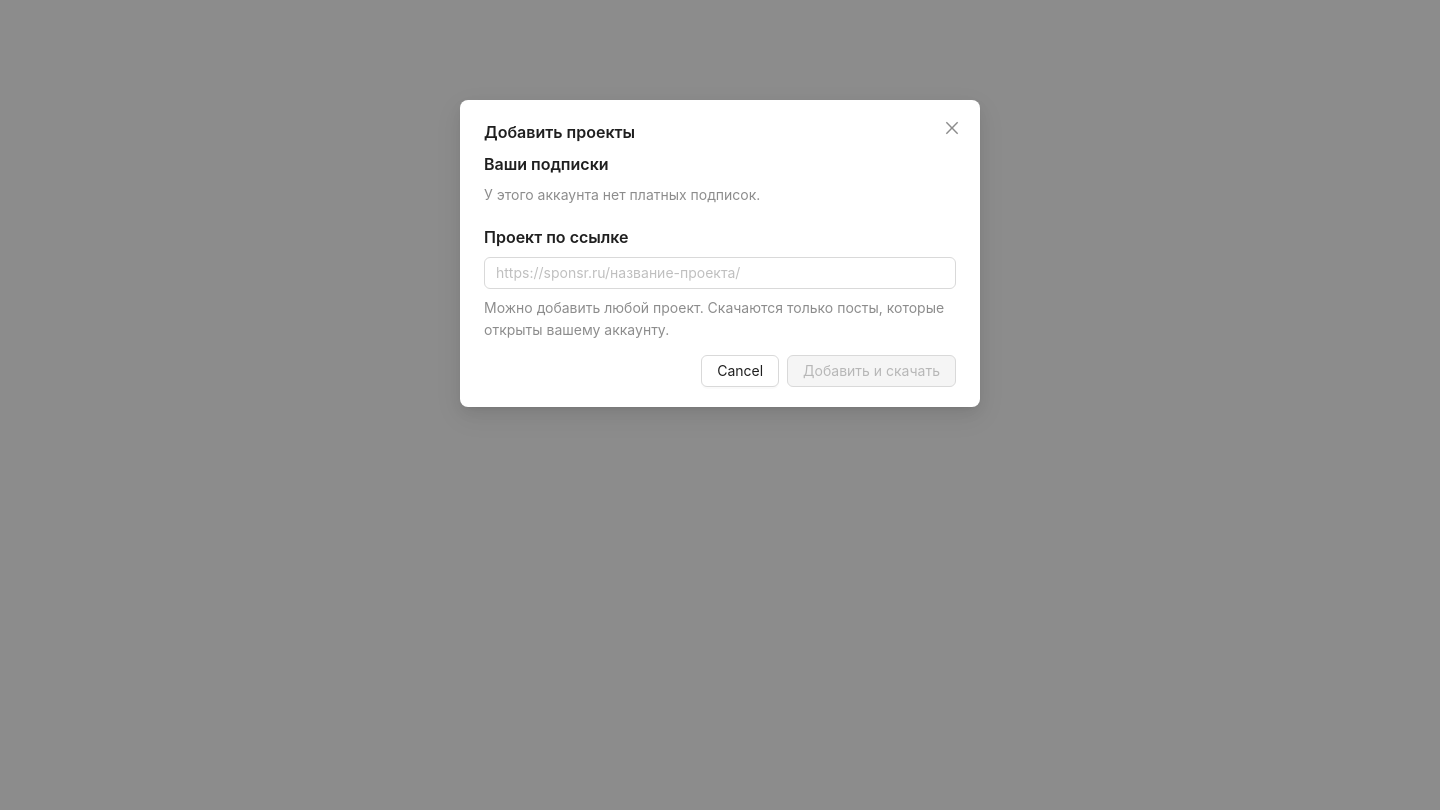
Test: AddProjectsModal › stays open and explains a refused address
In the field with placeholder "https://sponsr.ru/название-проекта/": (712, 273) top-left (496, 262), bottom-right (928, 284), type "nobody-home"
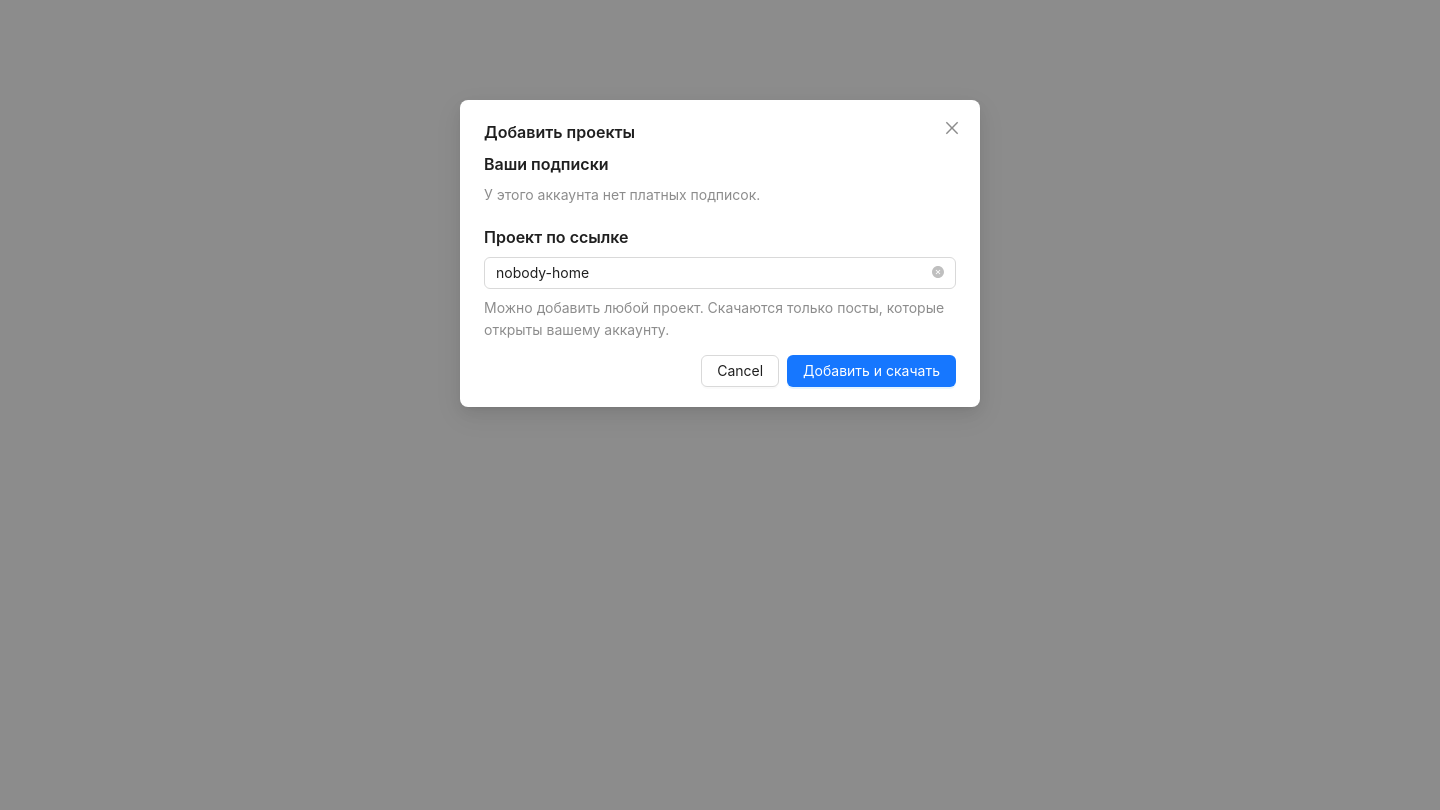
Click the button "Добавить и скачать": click(872, 371) top-left (787, 355), bottom-right (956, 387)
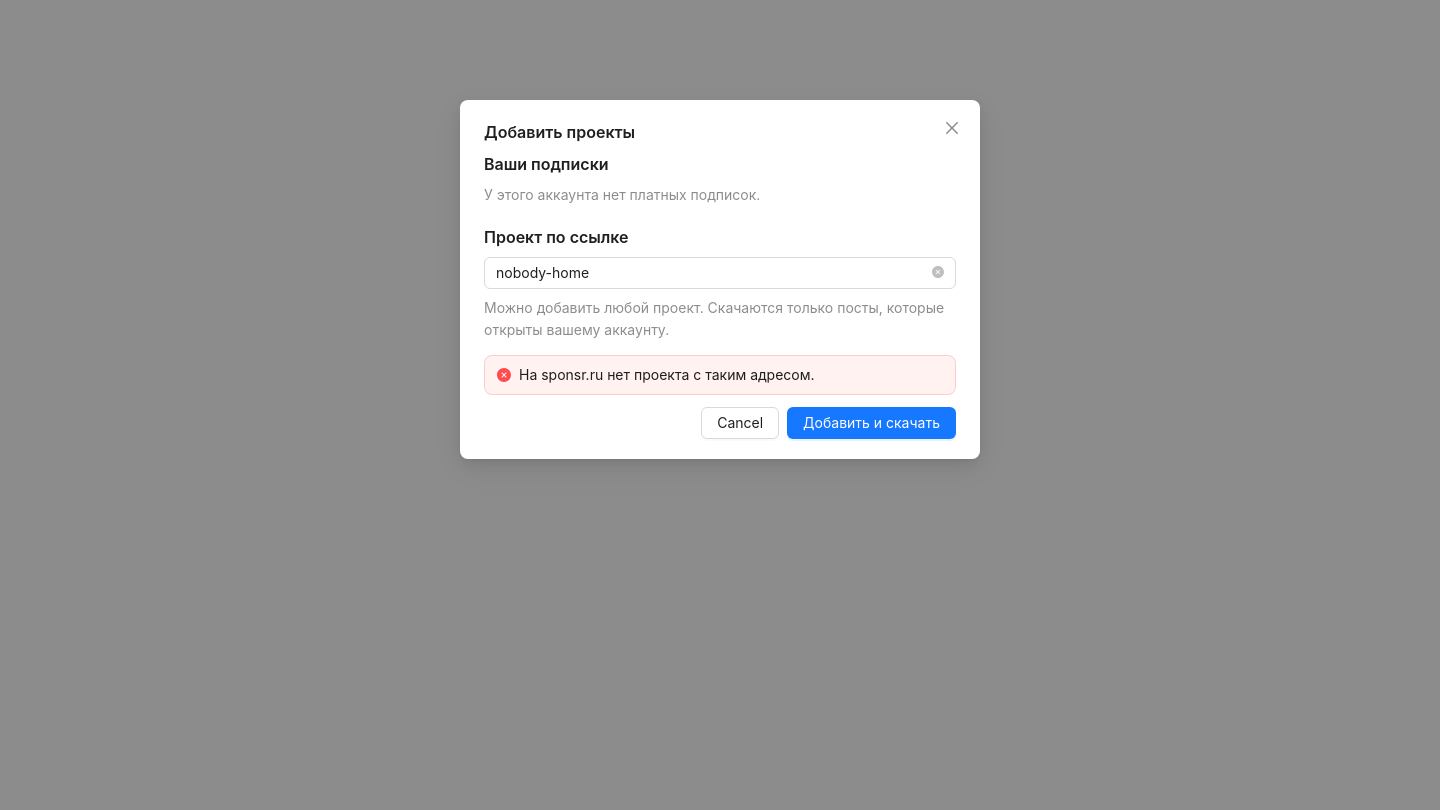
Now the text "На sponsr.ru нет проекта с таким адресом." is shown, box top-left (519, 366), bottom-right (815, 383)
